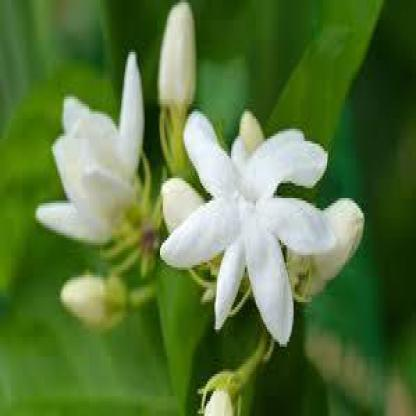Melati: (22, 23, 169, 343), (170, 103, 366, 331), (151, 1, 207, 115)
